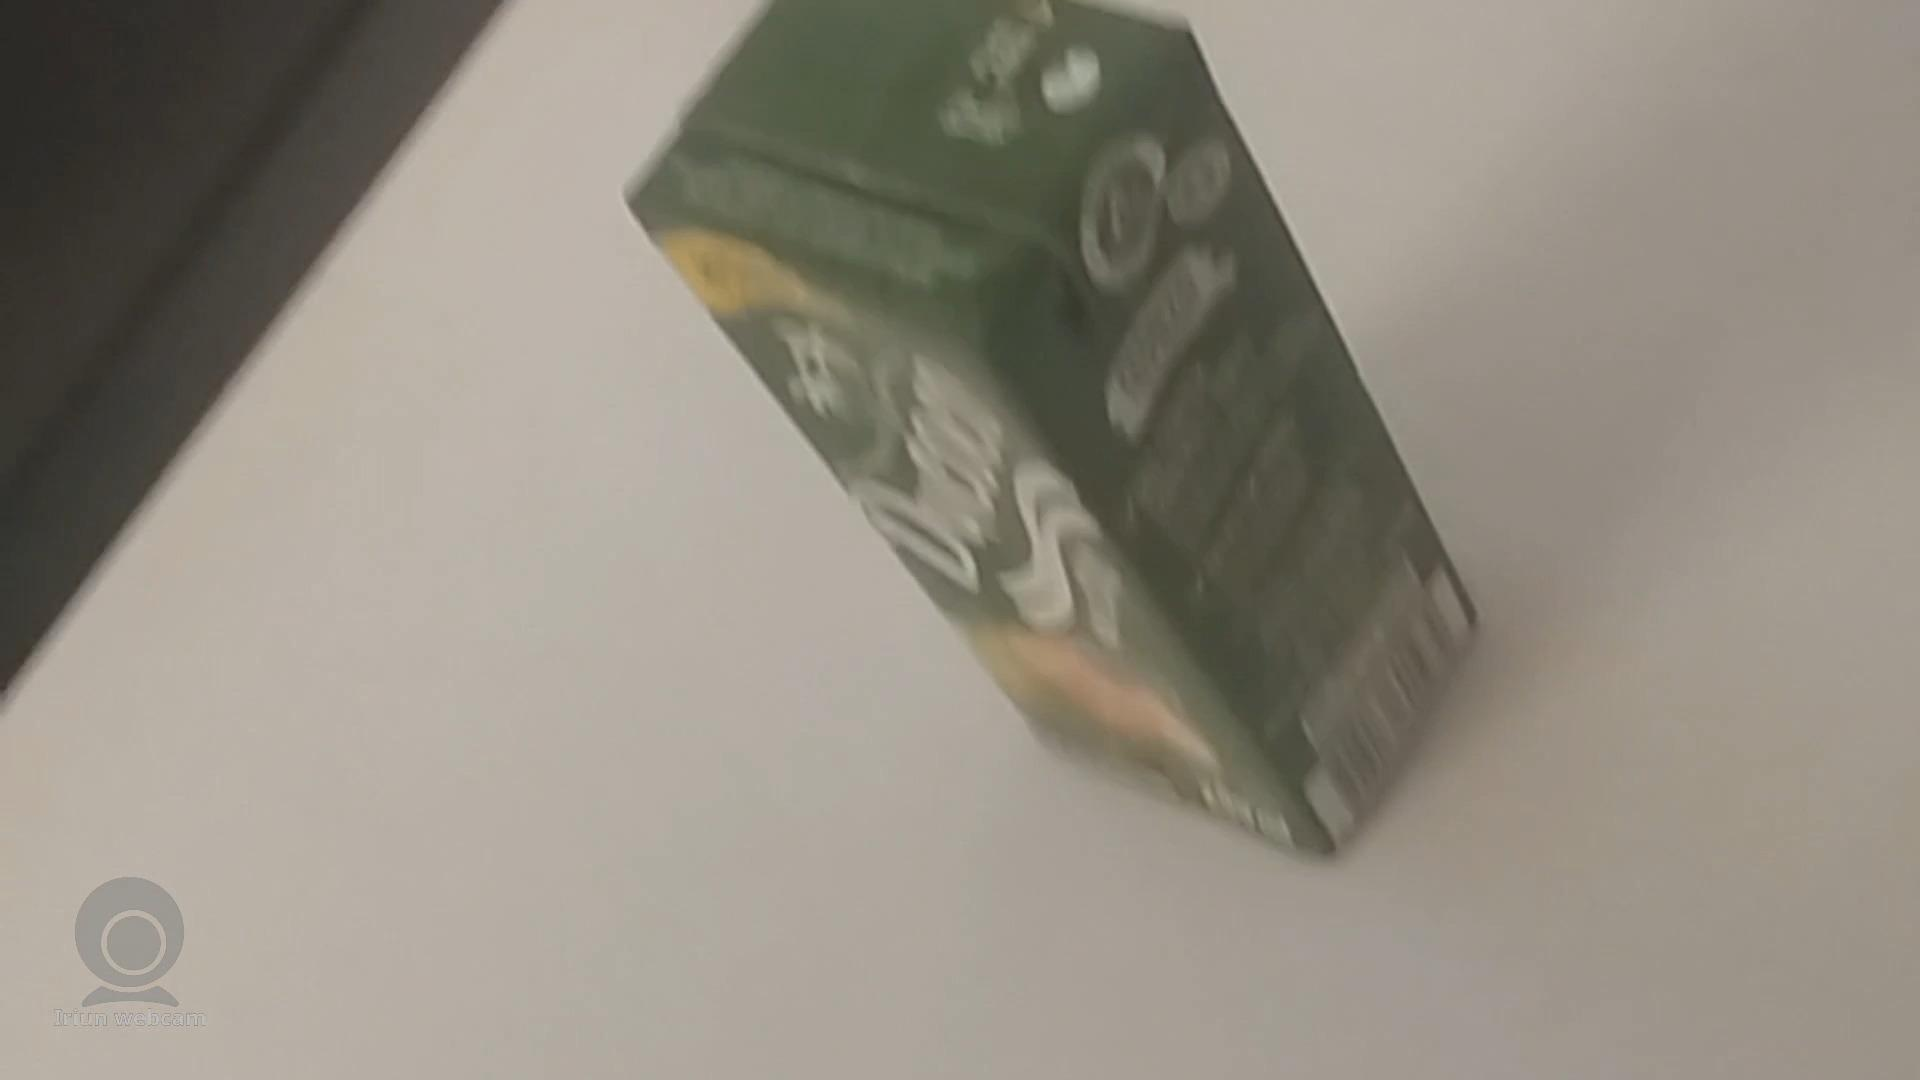coco: (622, 11, 1487, 857)
